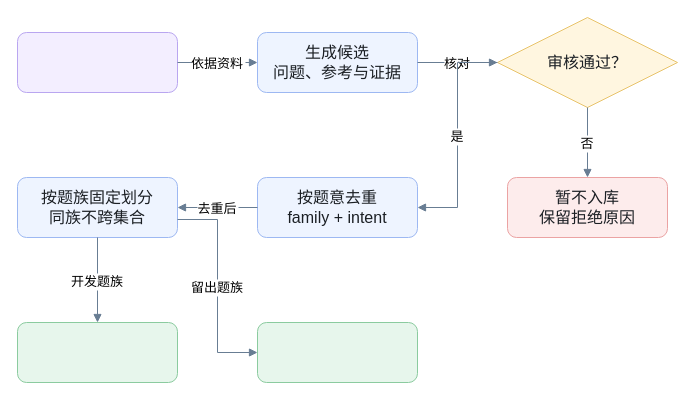
The diagram is 695 pixels wide and 400 high, and some of its shapes have lost their labels. The centre of each missing label's shape, as x and y in pixels:
开发集 调试和校准: (97,352)
留出集 最后比较: (337,352)
资料与种子题 保存来源版本: (97,62)
